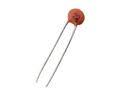ceramic capacitor: (57, 3, 98, 41)
